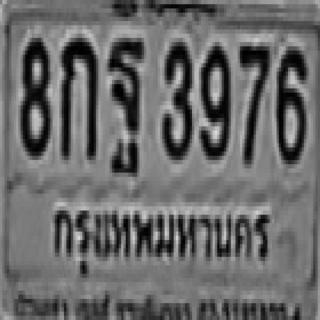A01: (60, 34, 96, 156)
A16: (107, 34, 142, 156)
N03: (160, 38, 190, 156)
N06: (274, 42, 304, 160)
N07: (238, 42, 267, 160)
N08: (18, 34, 48, 152)
N09: (199, 42, 229, 156)
P04: (46, 192, 272, 278)
